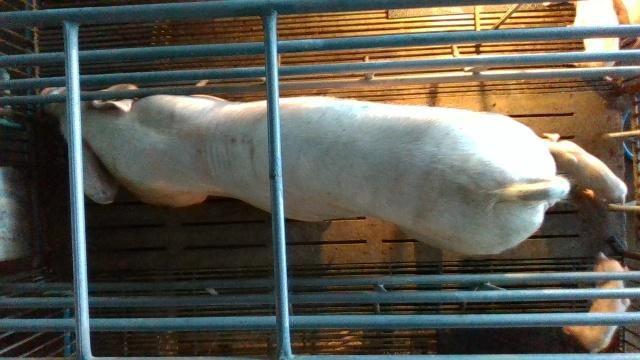piglet: (561, 252, 630, 353), (542, 134, 628, 204), (566, 0, 620, 68)
sow-stand: (41, 86, 571, 255)
